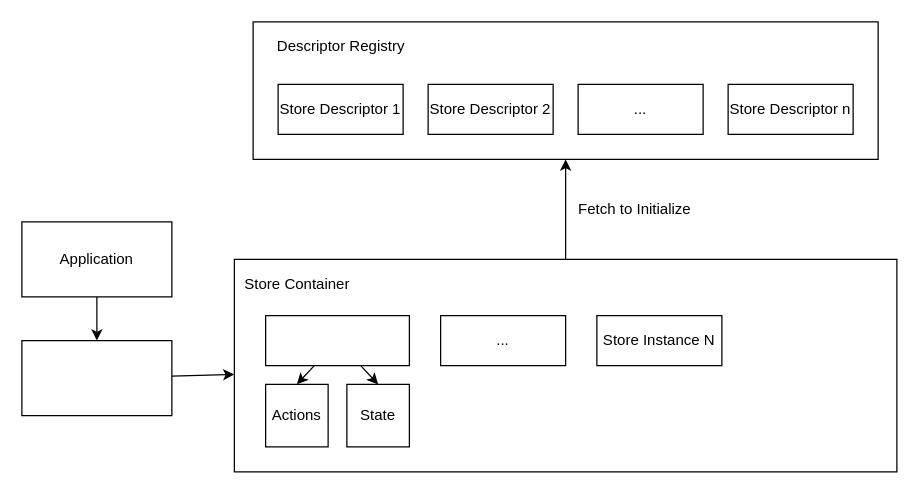
Some shapes in this 919 by 494 pixel diagram are drawn without their labels. The centre of each missing label's shape, as x and y in pixels:
Effects: the point at 96,377
Store Instance 1: the point at 336,340
